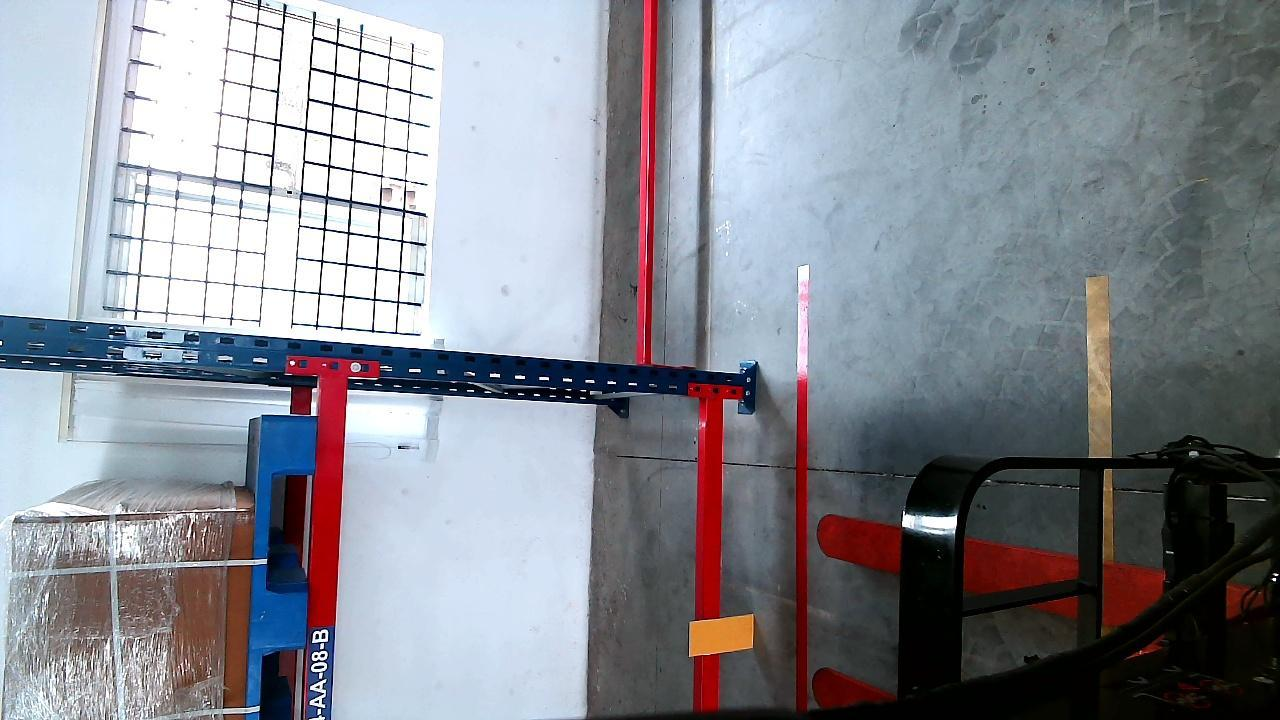red_line: (795, 271, 811, 701)
yellow_line: (1087, 274, 1112, 561)
